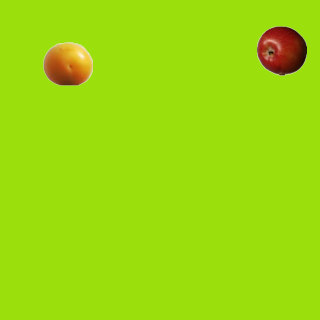Apple Braeburn: (256, 25, 306, 75)
Cherry Wax Yellow: (42, 38, 92, 88)
